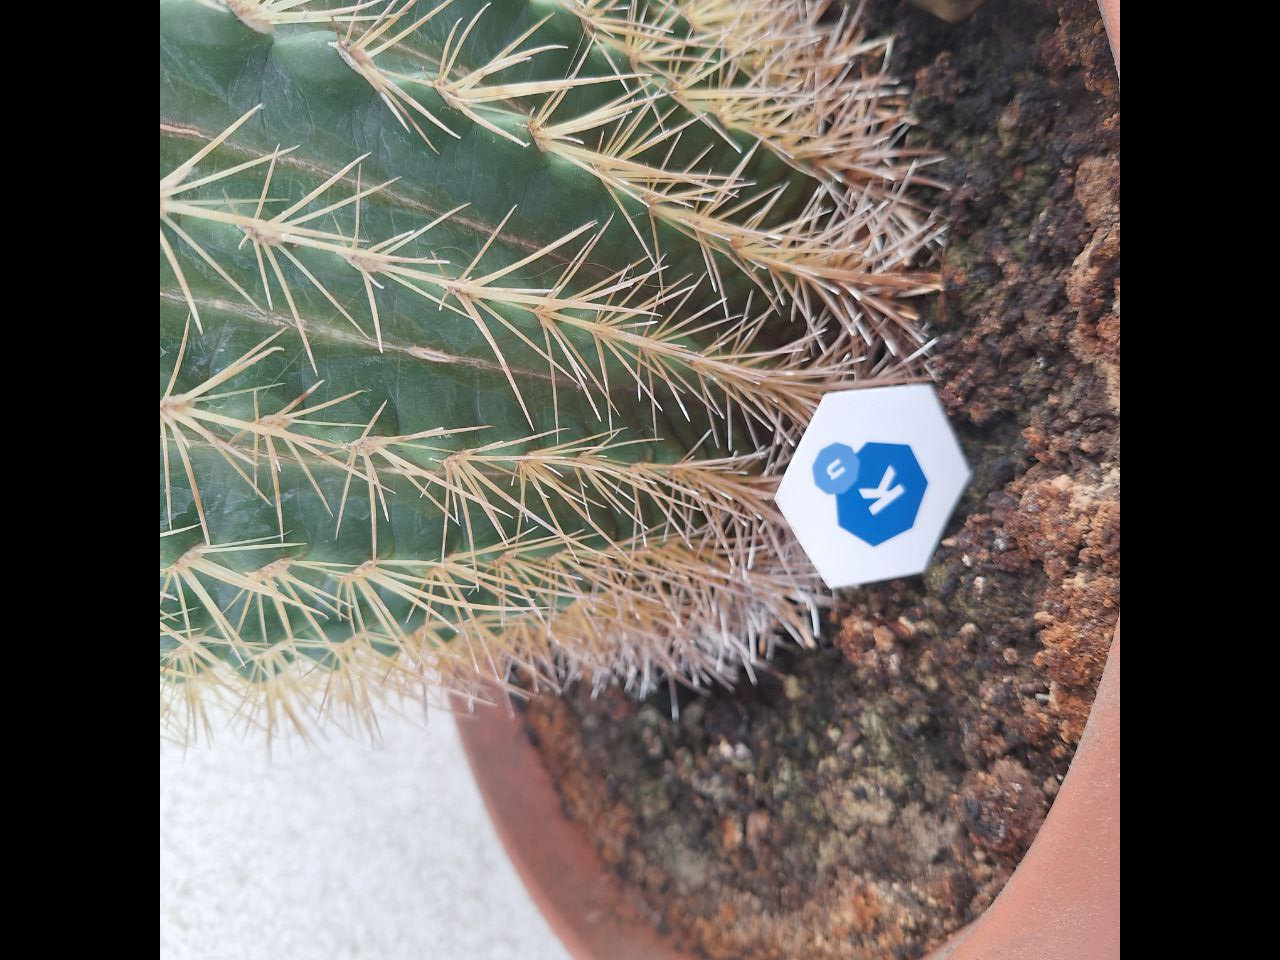knative: (811, 440, 931, 551)
